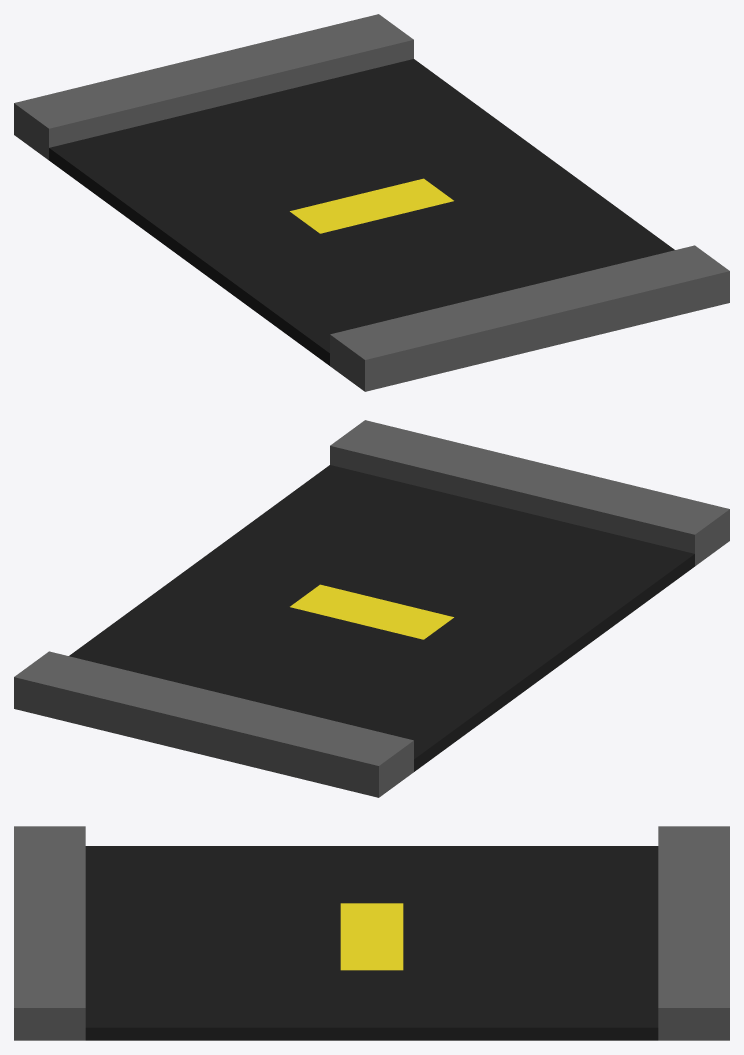
The model's file is Road.fbx.
3 views of the same model, one above another, from view 1: azimuth 30°, elevation 25°; view 2: azimuth 150°, elevation 25°; view 3: azimuth 270°, elevation 25° (orthographic).
Visible parts, largest first — view 1: Plane; view 2: Plane; view 3: Plane.
Boxes of the visible parts, x1,y1,x2,y2 form: Plane: [14, 14, 729, 391]; Plane: [14, 420, 729, 797]; Plane: [14, 826, 729, 1040].
Bounding box in the file's own units: 100 × 5 × 60.
